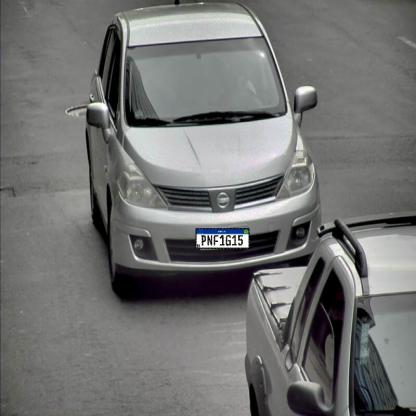PlacaM: (196, 228, 250, 249)
